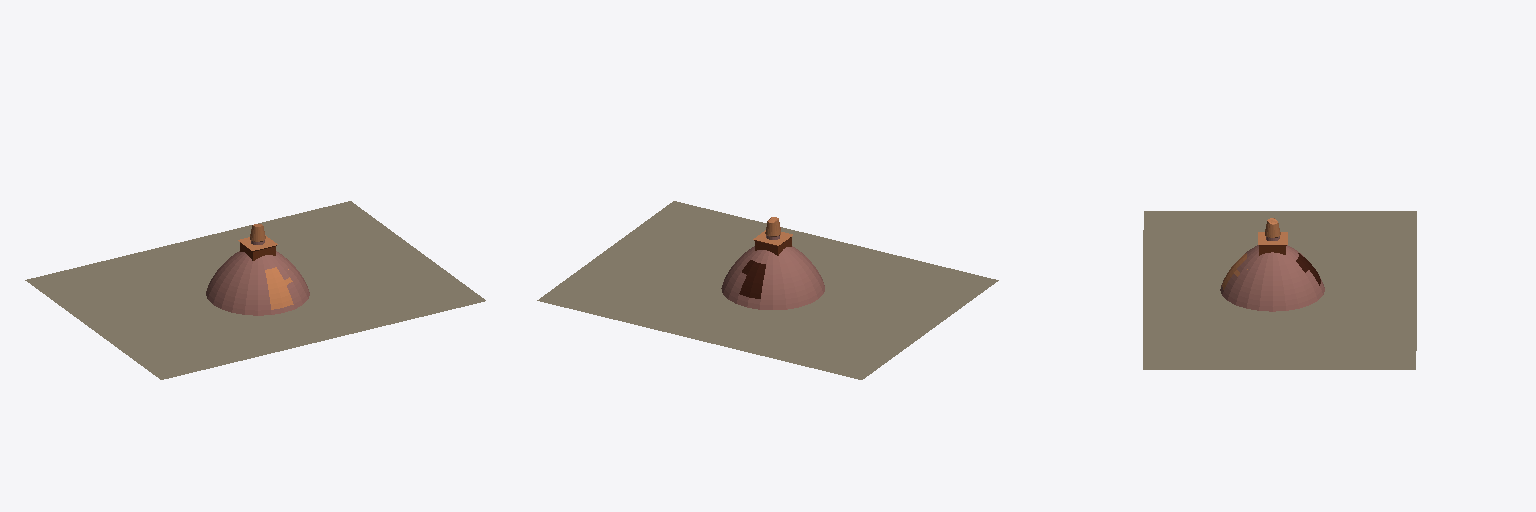
Rendered from jetha.obj.
3 views of the same model, side by side, from view 1: azimuth 30°, elevation 25°; view 2: azimuth 150°, elevation 25°; view 3: azimuth 270°, elevation 25° (orthographic).
Parts seen in each view (by area): view 1: Mesh1 Google_Earth_Snapshot Model, Mesh4 Group1 Model, Mesh3 Group1 Model; view 2: Mesh1 Google_Earth_Snapshot Model, Mesh4 Group1 Model, Mesh3 Group1 Model; view 3: Mesh1 Google_Earth_Snapshot Model, Mesh4 Group1 Model, Mesh3 Group1 Model.
Part boxes in pixels (x1,y1,x2,y2): Mesh1 Google_Earth_Snapshot Model: (25,201,485,379); Mesh4 Group1 Model: (206,251,309,315); Mesh3 Group1 Model: (238,224,277,260); Mesh1 Google_Earth_Snapshot Model: (537,201,998,379); Mesh4 Group1 Model: (721,246,824,309); Mesh3 Group1 Model: (753,217,792,255); Mesh1 Google_Earth_Snapshot Model: (1143,211,1416,369); Mesh4 Group1 Model: (1220,245,1324,311); Mesh3 Group1 Model: (1258,218,1287,255).
Size of the model in its own units: 343 by 69.59 by 250.